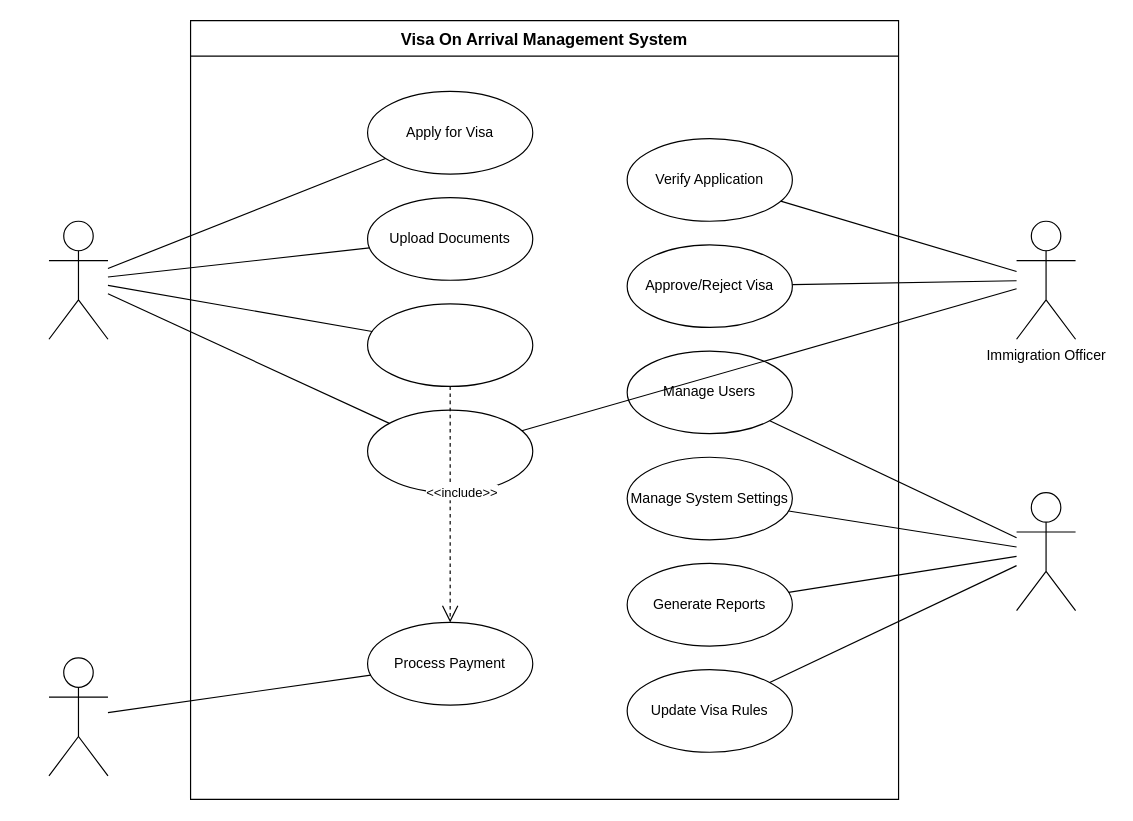
Image size: 1133x821. Some labels were removed from this diagram. Each missing label, with the box of its shape:
Make Payment: (366, 303, 533, 386)
Payment Gateway: (48, 657, 108, 776)
System Administrator: (1015, 491, 1076, 611)
Traveler: (48, 220, 108, 339)
View Visa Status: (366, 409, 533, 493)
